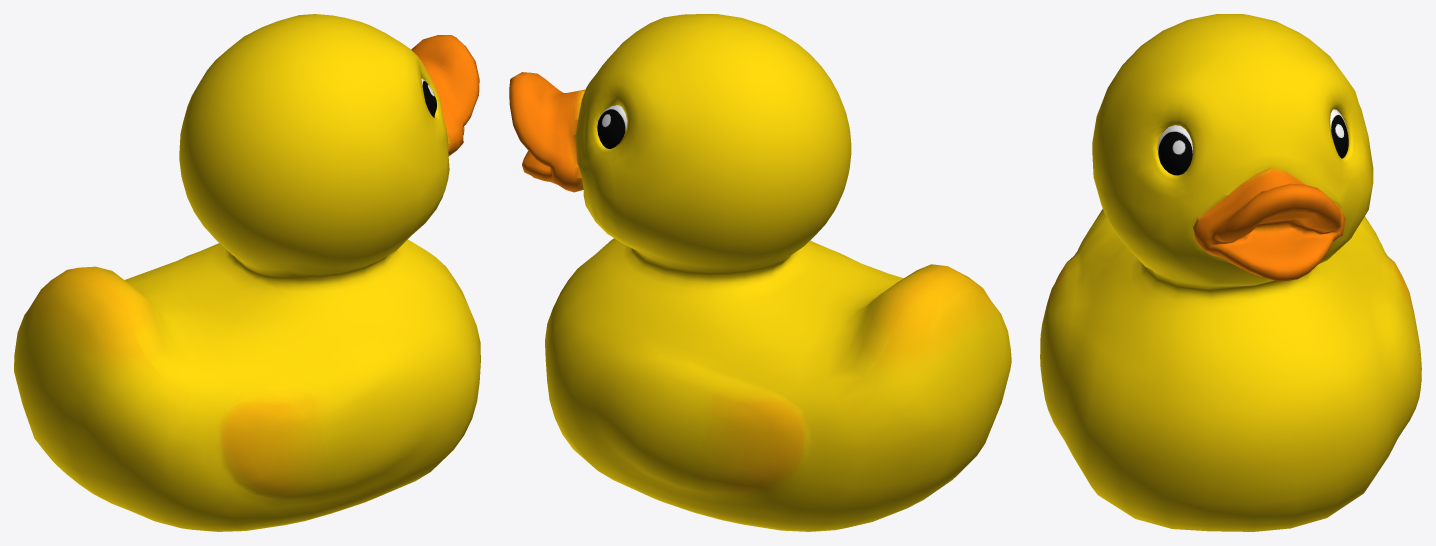
The picture shows the model from 3 angles, left to right: view 1: azimuth 30°, elevation 25°; view 2: azimuth 150°, elevation 25°; view 3: azimuth 270°, elevation 25°; orthographic projection. The views are drawn at different scales.
Parts seen in each view (by area): view 1: LOD3spShape; view 2: LOD3spShape; view 3: LOD3spShape.
Boxes of the visible parts, left/top/right/bottom form: LOD3spShape: left=14, top=14, right=480, bottom=531; LOD3spShape: left=509, top=14, right=1011, bottom=531; LOD3spShape: left=1040, top=14, right=1421, bottom=531.
Size of the model in its own units: 1.65 by 1.54 by 1.15.
1 material, 1 textured.
